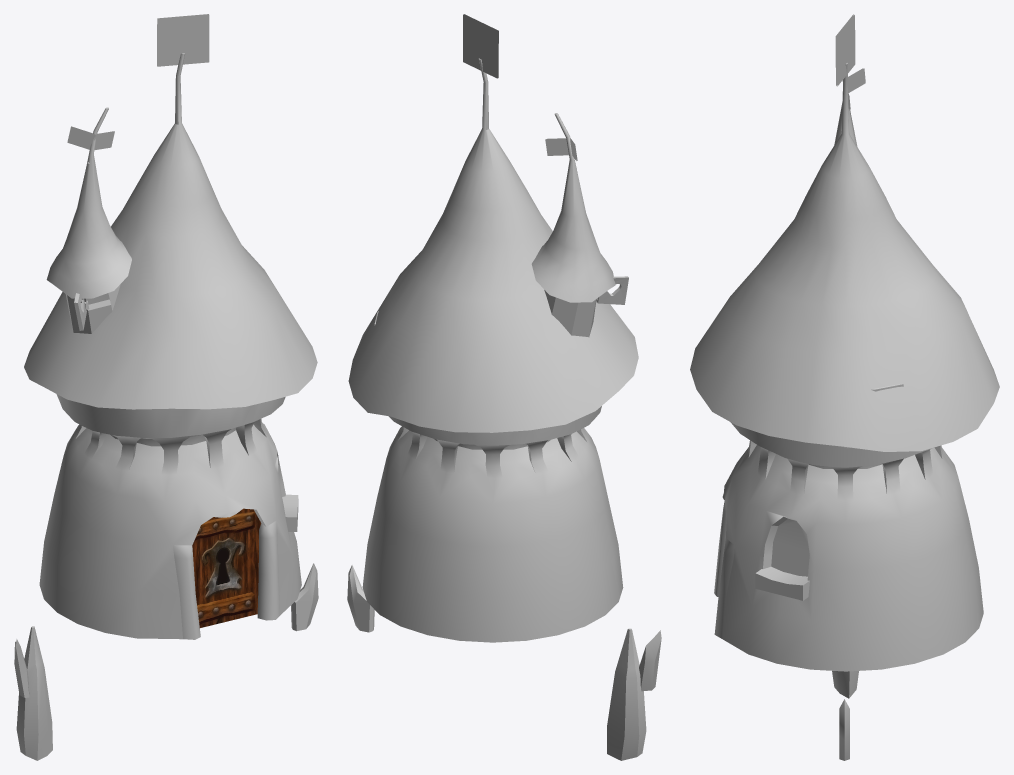
File: castle01.obj
The picture shows the model from 3 angles, left to right: view 1: azimuth 30°, elevation 25°; view 2: azimuth 150°, elevation 25°; view 3: azimuth 270°, elevation 25°; orthographic projection. The views are drawn at different scales.
Visible parts, largest first — view 1: castle01; view 2: castle01; view 3: castle01.
Boxes of the visible parts, <box> form: castle01: <box>14,14,318,760</box>; castle01: <box>347,14,661,760</box>; castle01: <box>690,14,999,760</box>.
Bounding box in the file's own units: 650 × 1411 × 536.
